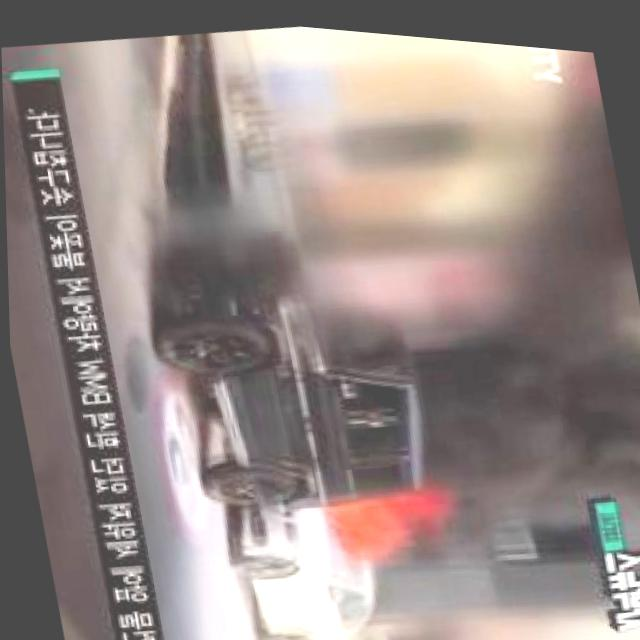helmet: (325, 486, 399, 552)
